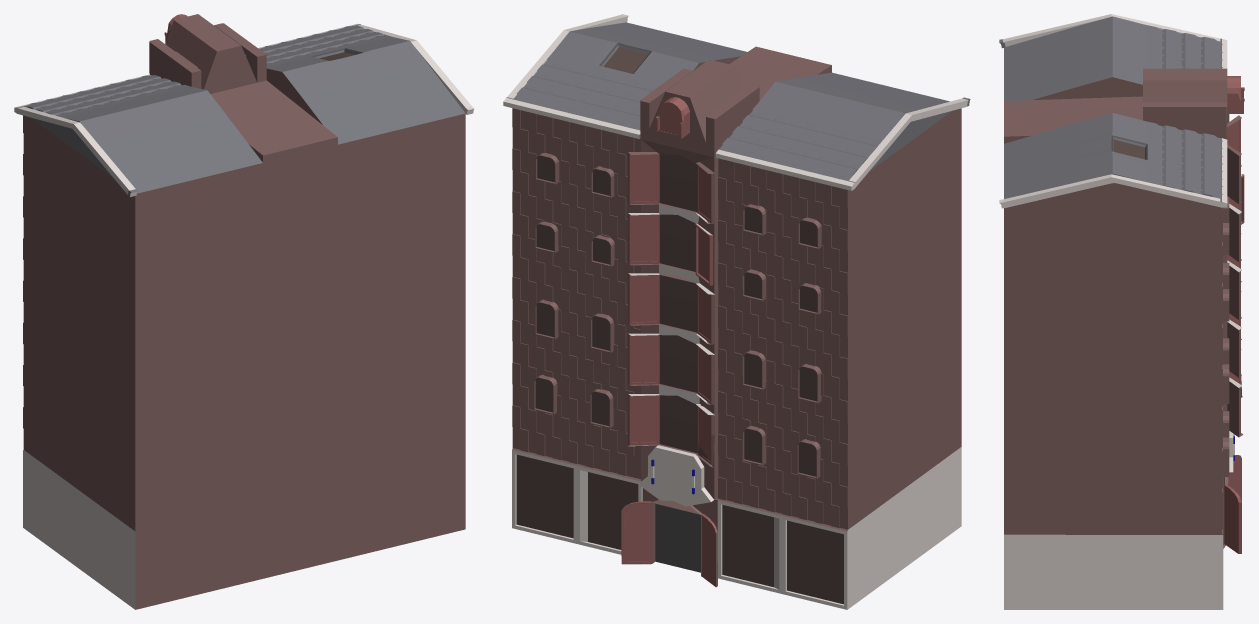
File: Blok2Blender.fbx
3 views of the same model, side by side, from view 1: azimuth 30°, elevation 25°; view 2: azimuth 150°, elevation 25°; view 3: azimuth 270°, elevation 25° (orthographic). The views are drawn at different scales.
Parts seen in each view (by area): view 1: Cube; view 2: Cube; view 3: Cube.
Boxes of the visible parts, x1,y1,x2,y2 form: Cube: (14,14,474,609); Cube: (503,14,970,609); Cube: (999,14,1244,609).
Bounding box in the file's own units: 916 × 1196 × 583.
